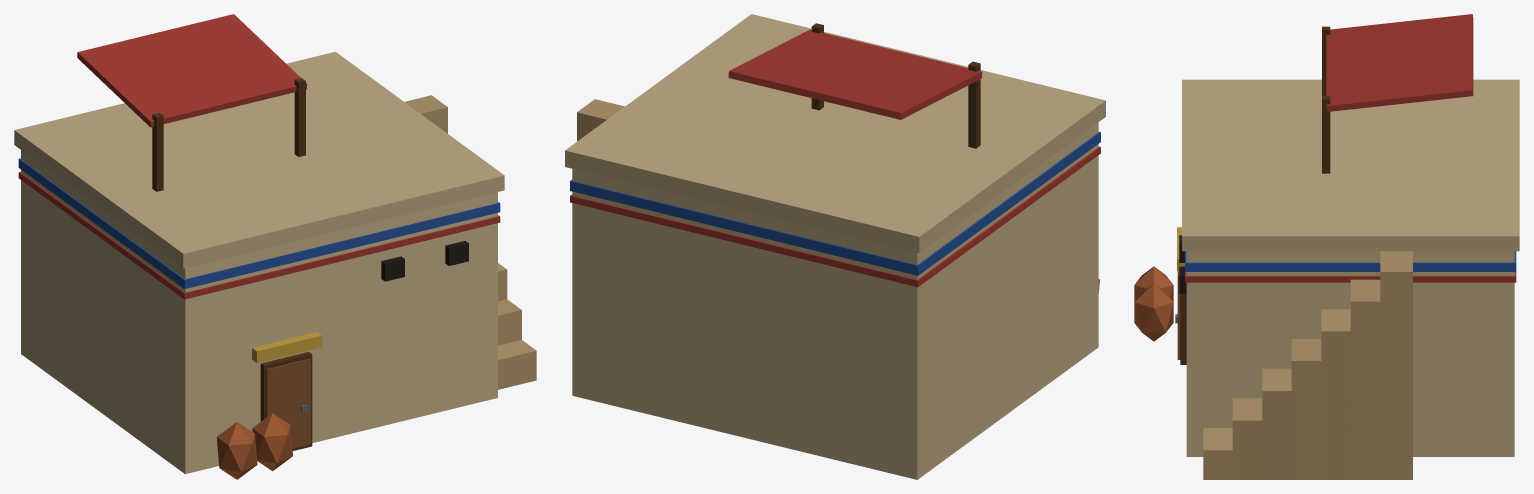
File: gnoll_hall_broken.glb
The picture shows the model from 3 angles, left to right: view 1: azimuth 30°, elevation 25°; view 2: azimuth 150°, elevation 25°; view 3: azimuth 270°, elevation 25°; orthographic projection. The views are drawn at different scales.
Parts seen in each view (by area): view 1: gnoll_hall_piece3, gnoll_hall_piece5, gnoll_hall_piece6, gnoll_hall_piece0, gnoll_hall_piece9, gnoll_hall_piece11, gnoll_hall_piece2, gnoll_hall_piece8, gnoll_hall_piece1, gnoll_hall_piece4, gnoll_hall_piece10; view 2: gnoll_hall_piece2, gnoll_hall_piece7, gnoll_hall_piece1, gnoll_hall_piece3, gnoll_hall_piece11, gnoll_hall_piece8, gnoll_hall_piece4, gnoll_hall_piece5, gnoll_hall_piece9, gnoll_hall_piece6, gnoll_hall_piece10; view 3: gnoll_hall_piece3, gnoll_hall_piece2, gnoll_hall_piece6, gnoll_hall_piece8, gnoll_hall_piece5, gnoll_hall_piece4, gnoll_hall_piece1, gnoll_hall_piece9, gnoll_hall_piece0, gnoll_hall_piece10, gnoll_hall_piece7.
Boxes of the visible parts, x1=… form: gnoll_hall_piece3: x1=286, y1=51, x2=536, y2=405; gnoll_hall_piece5: x1=153, y1=81, x2=346, y2=436; gnoll_hall_piece6: x1=241, y1=58, x2=440, y2=377; gnoll_hall_piece0: x1=175, y1=311, x2=466, y2=479; gnoll_hall_piece9: x1=134, y1=182, x2=308, y2=474; gnoll_hall_piece11: x1=55, y1=285, x2=187, y2=474; gnoll_hall_piece2: x1=14, y1=14, x2=345, y2=167; gnoll_hall_piece8: x1=89, y1=60, x2=285, y2=338; gnoll_hall_piece1: x1=18, y1=138, x2=317, y2=378; gnoll_hall_piece4: x1=61, y1=139, x2=444, y2=311; gnoll_hall_piece10: x1=173, y1=52, x2=295, y2=164; gnoll_hall_piece2: x1=694, y1=48, x2=932, y2=393; gnoll_hall_piece7: x1=600, y1=143, x2=793, y2=438; gnoll_hall_piece1: x1=748, y1=107, x2=973, y2=479; gnoll_hall_piece3: x1=565, y1=14, x2=844, y2=402; gnoll_hall_piece11: x1=955, y1=231, x2=1098, y2=451; gnoll_hall_piece8: x1=839, y1=51, x2=1061, y2=251; gnoll_hall_piece4: x1=758, y1=88, x2=1043, y2=338; gnoll_hall_piece5: x1=848, y1=41, x2=1105, y2=182; gnoll_hall_piece9: x1=913, y1=112, x2=1099, y2=296; gnoll_hall_piece6: x1=780, y1=23, x2=925, y2=107; gnoll_hall_piece10: x1=774, y1=45, x2=853, y2=114; gnoll_hall_piece3: x1=1179, y1=195, x2=1519, y2=479; gnoll_hall_piece2: x1=1335, y1=14, x2=1519, y2=197; gnoll_hall_piece6: x1=1177, y1=78, x2=1380, y2=292; gnoll_hall_piece8: x1=1280, y1=17, x2=1442, y2=161; gnoll_hall_piece5: x1=1134, y1=48, x2=1357, y2=304; gnoll_hall_piece4: x1=1301, y1=104, x2=1402, y2=196; gnoll_hall_piece1: x1=1343, y1=79, x2=1495, y2=184; gnoll_hall_piece9: x1=1134, y1=79, x2=1294, y2=322; gnoll_hall_piece0: x1=1135, y1=282, x2=1186, y2=364; gnoll_hall_piece10: x1=1312, y1=53, x2=1420, y2=167; gnoll_hall_piece7: x1=1447, y1=167, x2=1519, y2=197.
Size of the model in its own units: 2.6 by 2.12 by 2.38.
